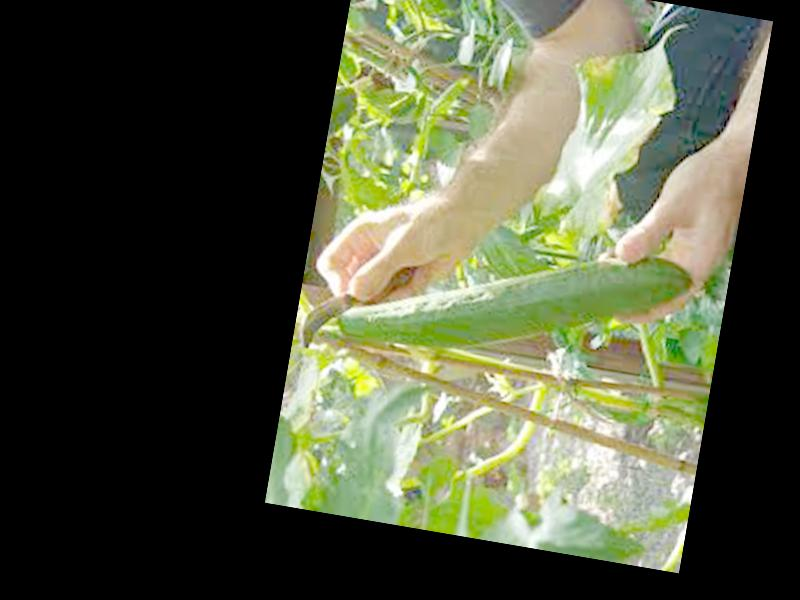Cucumber: (337, 208, 694, 394)
